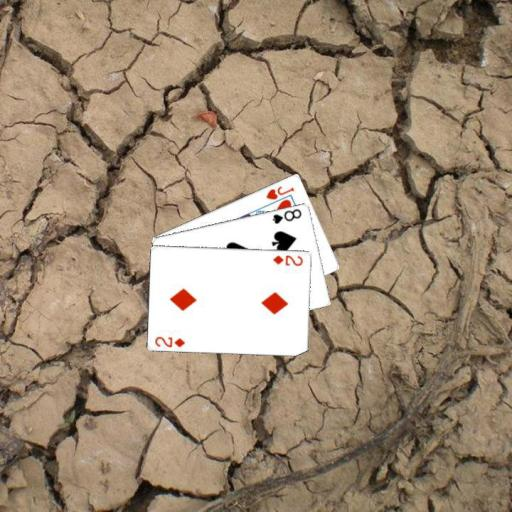2D: (271, 252, 305, 267), (152, 334, 186, 349)
8S: (269, 206, 303, 225)
JH: (263, 183, 296, 201)
